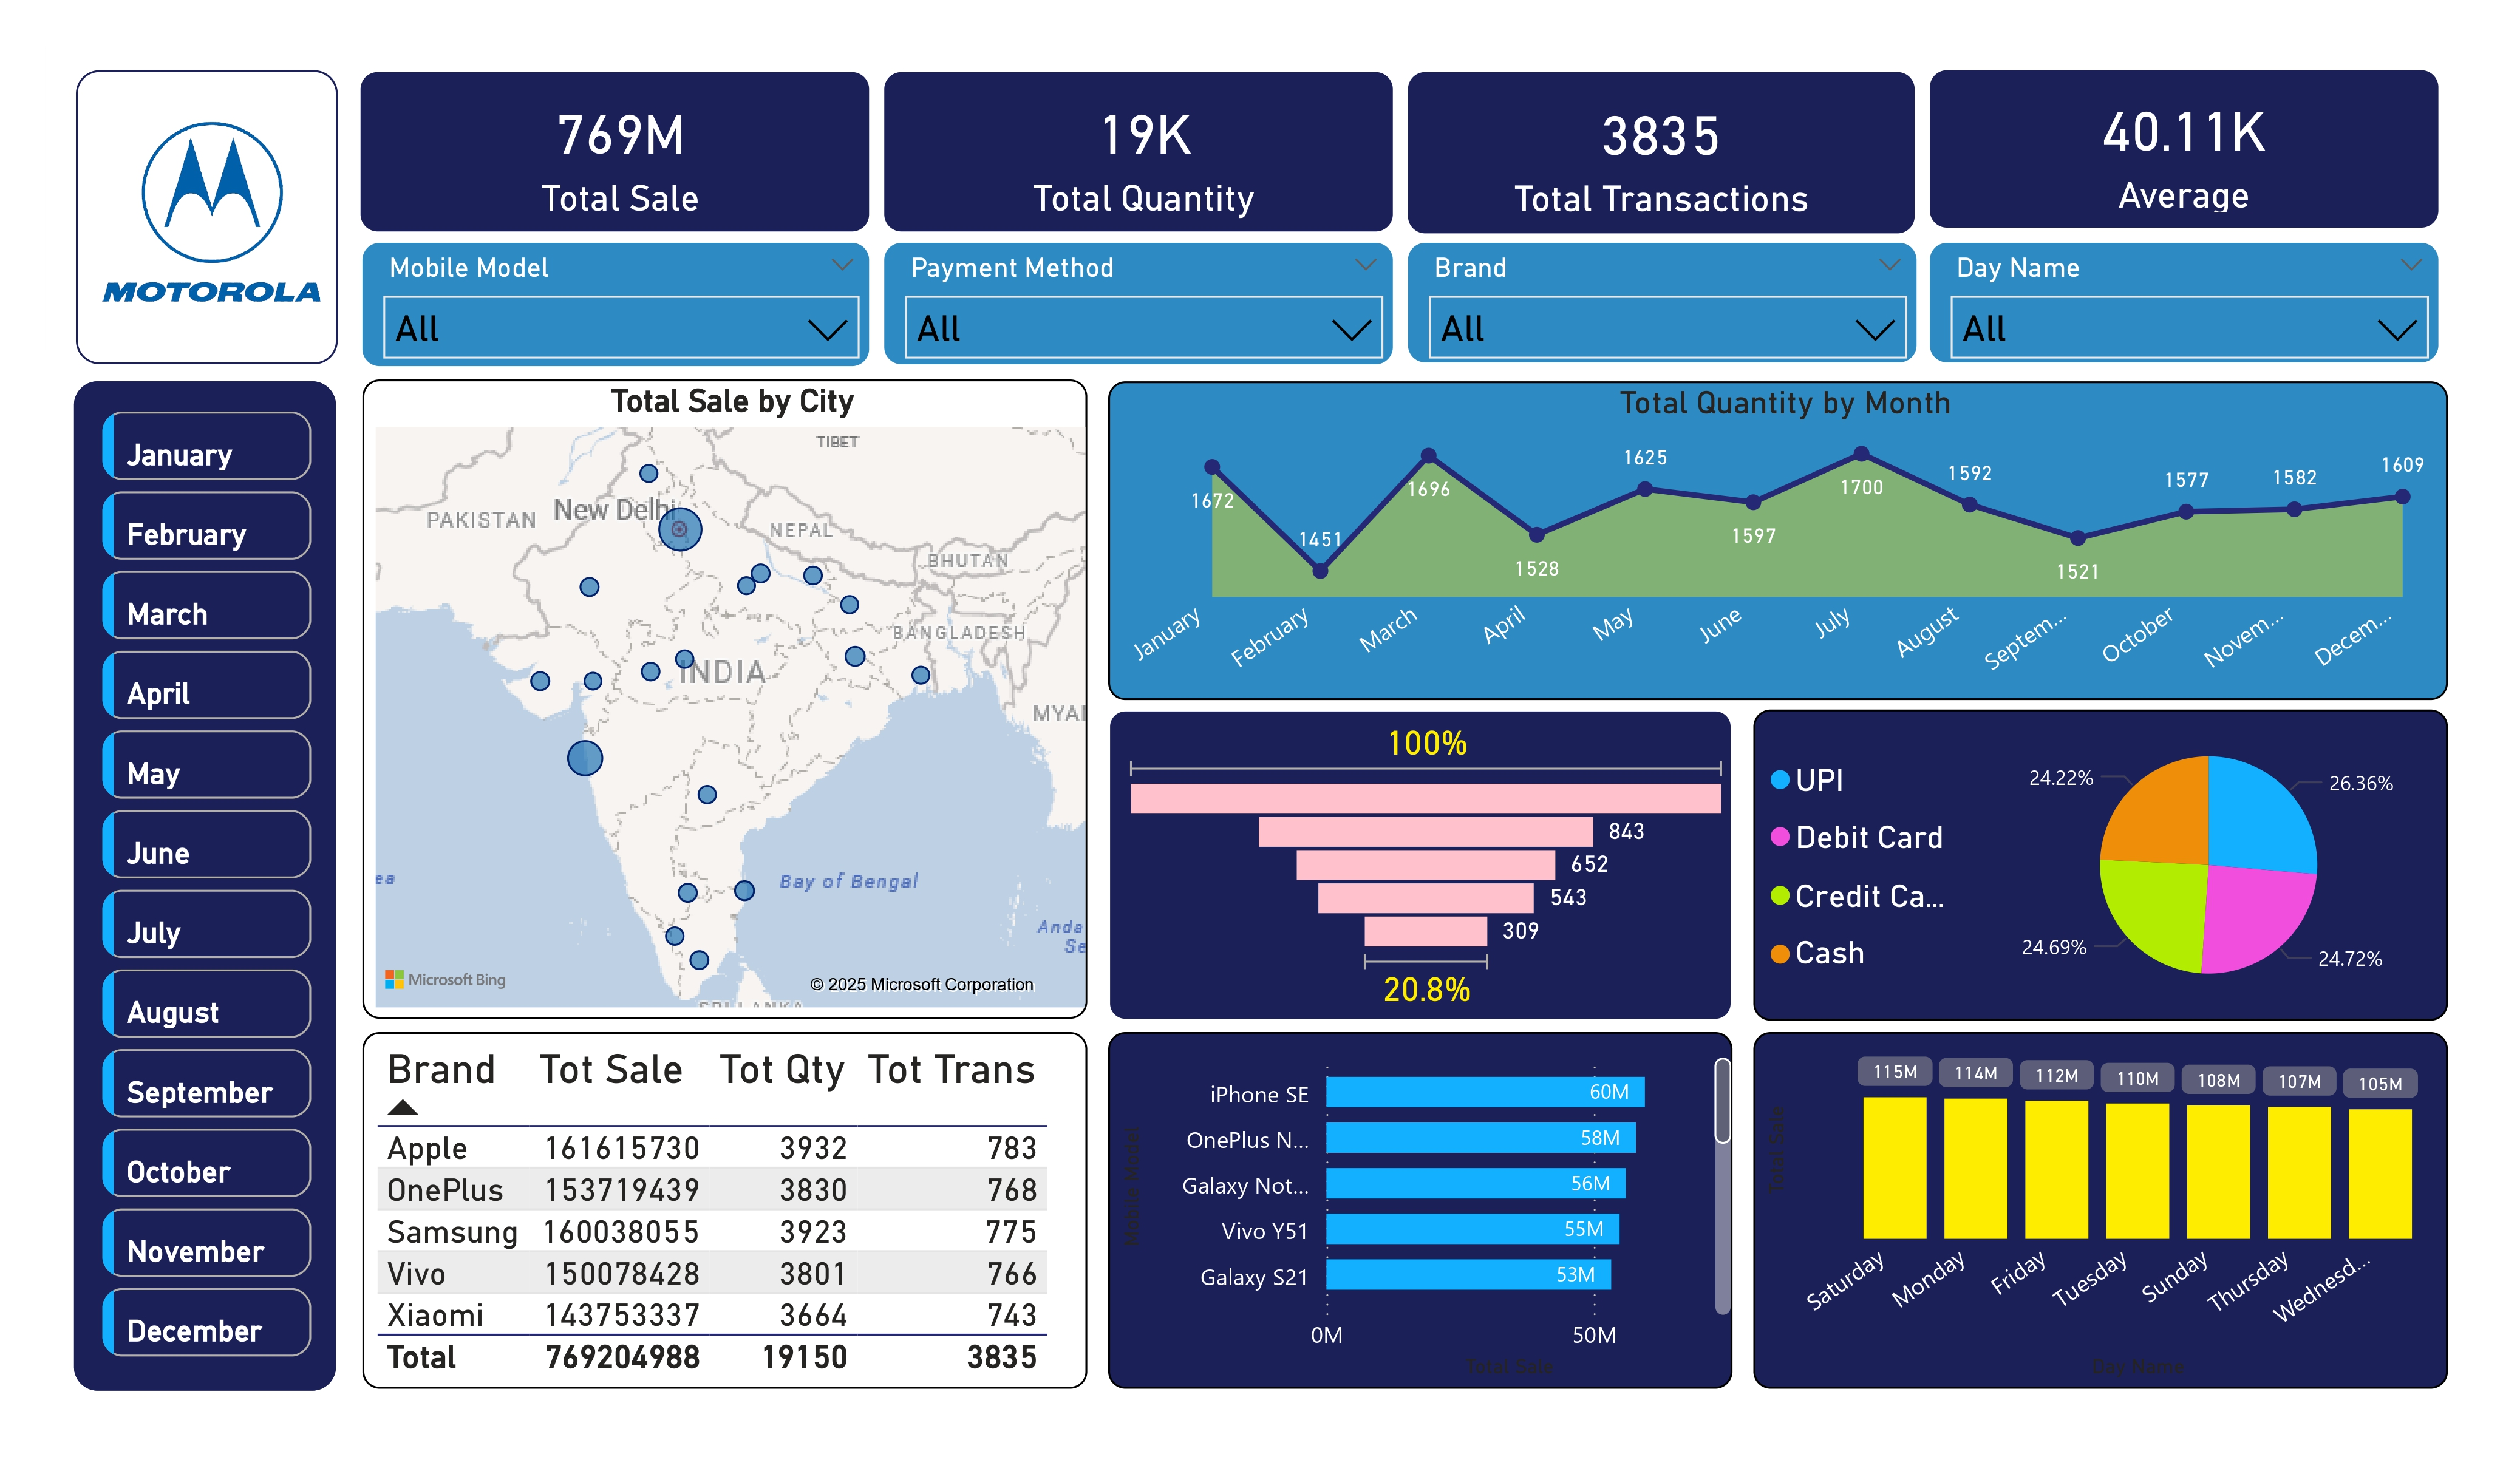

Layout of this report page (visuals, bound fields, positions):
{"tool":"powerbi","page":{"name":"Visual","canvas":[1280,720],"ordinal":0},"visuals":[{"type":"shape","box":[15,176.6,138.4,532.9],"z":0},{"type":"shape","box":[15.9,12.7,138.4,162],"z":1000},{"type":"image","box":[25.4,12.7,124.1,144.7],"z":2000},{"type":"slicer","fields":{"Values":["Mobile Sales Data.Mobile Model"]},"box":[166.1,103.3,269.4,66.8],"z":4000},{"type":"slicer","fields":{"Values":["Mobile Sales Data.Payment Method"]},"box":[441,103.4,270,65.2],"z":5000},{"type":"slicer","fields":{"Values":["Mobile Sales Data.Brand"]},"box":[717,103,270,65.2],"z":6000},{"type":"slicer","fields":{"Values":["Mobile Sales Data.Day Name"]},"box":[992,103,270,65.2],"z":7000},{"type":"map","fields":{"Category":["Mobile Sales Data.City"],"Size":["Mobile Sales Data.Total Sale"]},"box":[167,176,381.7,337.2],"z":8000},{"type":"lineChart","fields":{"Y":["Mobile Sales Data.Total Quantity"],"Category":["Custom_Calendar.Sale Date.Variation.Date Hierarchy.Month"]},"box":[559.9,176.6,706.2,168.6],"z":9000},{"type":"tableEx","fields":{"Values":["Mobile Sales Data.Brand","Mobile Sales Data.Total Sale","Mobile Sales Data.Total Quantity","Mobile Sales Data.Total Transactions"]},"box":[167,520.1,381.7,187.7],"z":10000},{"type":"funnel","title":"Customer Ratings","fields":{"Category":["Mobile Sales Data.Customer Ratings"],"Y":["CountNonNull(Mobile Sales Data.Customer Ratings)"]},"box":[559.9,349.9,329.3,163.8],"z":11000},{"type":"barChart","fields":{"Category":["Mobile Sales Data.Mobile Model"],"Y":["Mobile Sales Data.Total Sale"]},"box":[559.9,520.1,329.3,187.7],"z":12000},{"type":"pieChart","fields":{"Category":["Mobile Sales Data.Payment Method"],"Y":["Mobile Sales Data.Total Transactions"]},"box":[900.3,349.9,365.8,163.8],"z":13000},{"type":"columnChart","fields":{"Category":["Mobile Sales Data.Day Name"],"Y":["Mobile Sales Data.Total Sale"]},"box":[900.3,520.1,365.8,187.7],"z":14000},{"type":"card","fields":{"Values":["Mobile Sales Data.Total Sale"]},"box":[165.4,12.7,270,85.9],"z":15000},{"type":"card","fields":{"Values":["Mobile Sales Data.Total Quantity"]},"box":[441,12.7,270,85.9],"z":16000},{"type":"card","fields":{"Values":["Mobile Sales Data.Total Transactions"]},"box":[717,12.7,268.8,87.5],"z":17000},{"type":"card","fields":{"Values":["Mobile Sales Data.Average"]},"box":[992.4,12.2,269.4,85.1],"z":18000},{"type":"advancedSlicerVisual","fields":{"Values":["Custom_Calendar.Sale Date.Variation.Date Hierarchy.Month"]},"box":[25.4,190,120.9,507.4],"z":18500}]}

Visuals, with their boxes in screenshot pixels (x1, y1, x2, y2):
shape: [74,381,336,1391]
shape: [76,70,338,377]
image: [94,70,329,344]
slicer - Mobile Sales Data.Mobile Model: [361,242,872,368]
slicer - Mobile Sales Data.Payment Method: [882,242,1395,365]
slicer - Mobile Sales Data.Brand: [1406,241,1918,365]
slicer - Mobile Sales Data.Day Name: [1928,241,2440,365]
map - Mobile Sales Data.City x Mobile Sales Data.Total Sale: [363,379,1087,1019]
lineChart - Mobile Sales Data.Total Quantity x Custom_Calendar.Sale Date.Variation.Date Hierarchy.Month: [1108,381,2448,701]
tableEx - Mobile Sales Data.Brand x Mobile Sales Data.Total Sale: [363,1032,1087,1388]
"Customer Ratings" funnel: [1108,709,1733,1020]
barChart - Mobile Sales Data.Mobile Model x Mobile Sales Data.Total Sale: [1108,1032,1733,1388]
pieChart - Mobile Sales Data.Payment Method x Mobile Sales Data.Total Transactions: [1754,709,2448,1020]
columnChart - Mobile Sales Data.Day Name x Mobile Sales Data.Total Sale: [1754,1032,2448,1388]
card - Mobile Sales Data.Total Sale: [359,70,872,233]
card - Mobile Sales Data.Total Quantity: [882,70,1395,233]
card - Mobile Sales Data.Total Transactions: [1406,70,1916,236]
card - Mobile Sales Data.Average: [1929,69,2440,230]
advancedSlicerVisual - Custom_Calendar.Sale Date.Variation.Date Hierarchy.Month: [94,406,323,1368]
